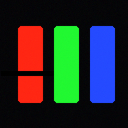3 line_h: (1, 71, 53, 75)
